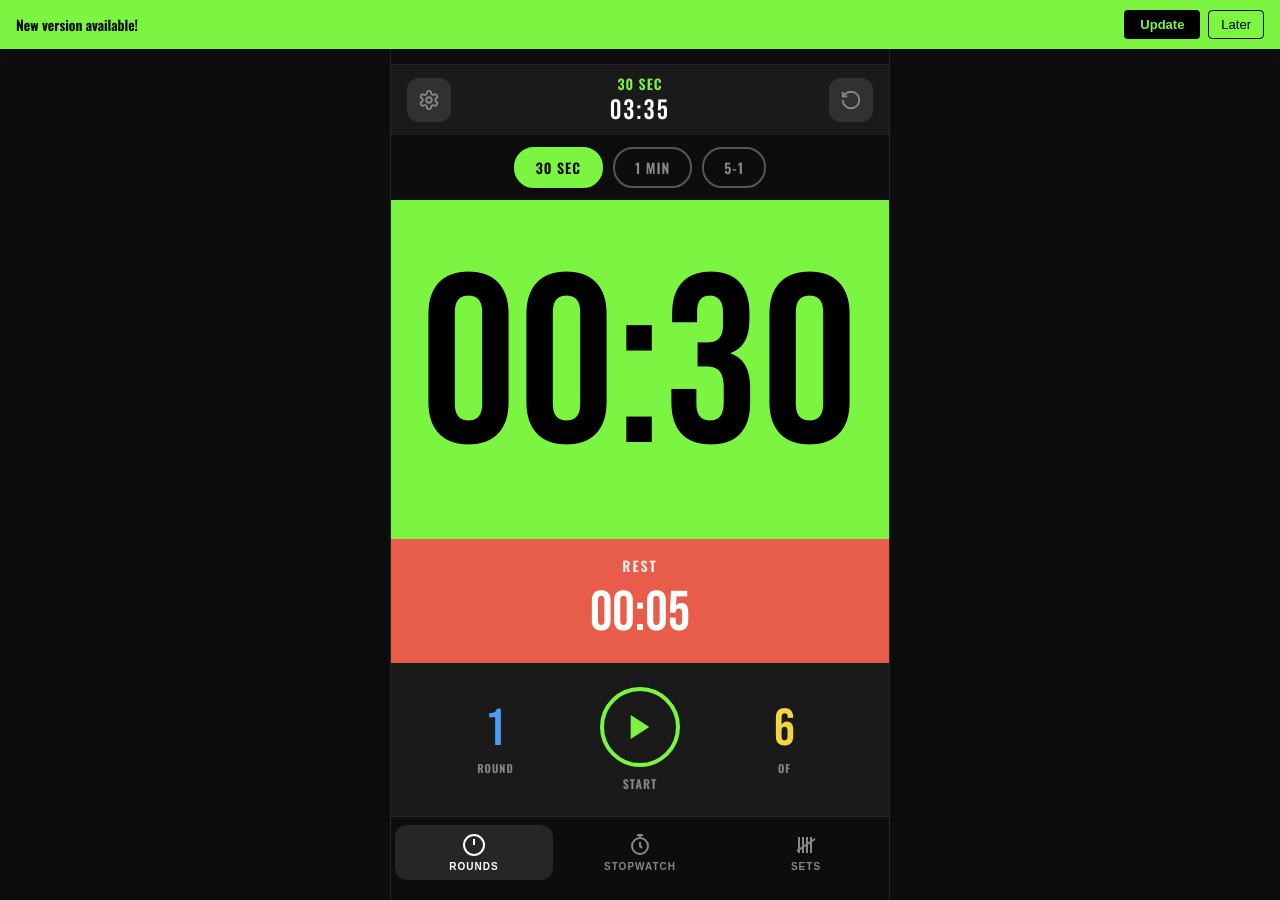
it: App › should change preset when clicked
The width and height of the screenshot is (1280, 900).
Step 1. Click the button "1 MIN" → x=653, y=168, box [613,147,692,188]
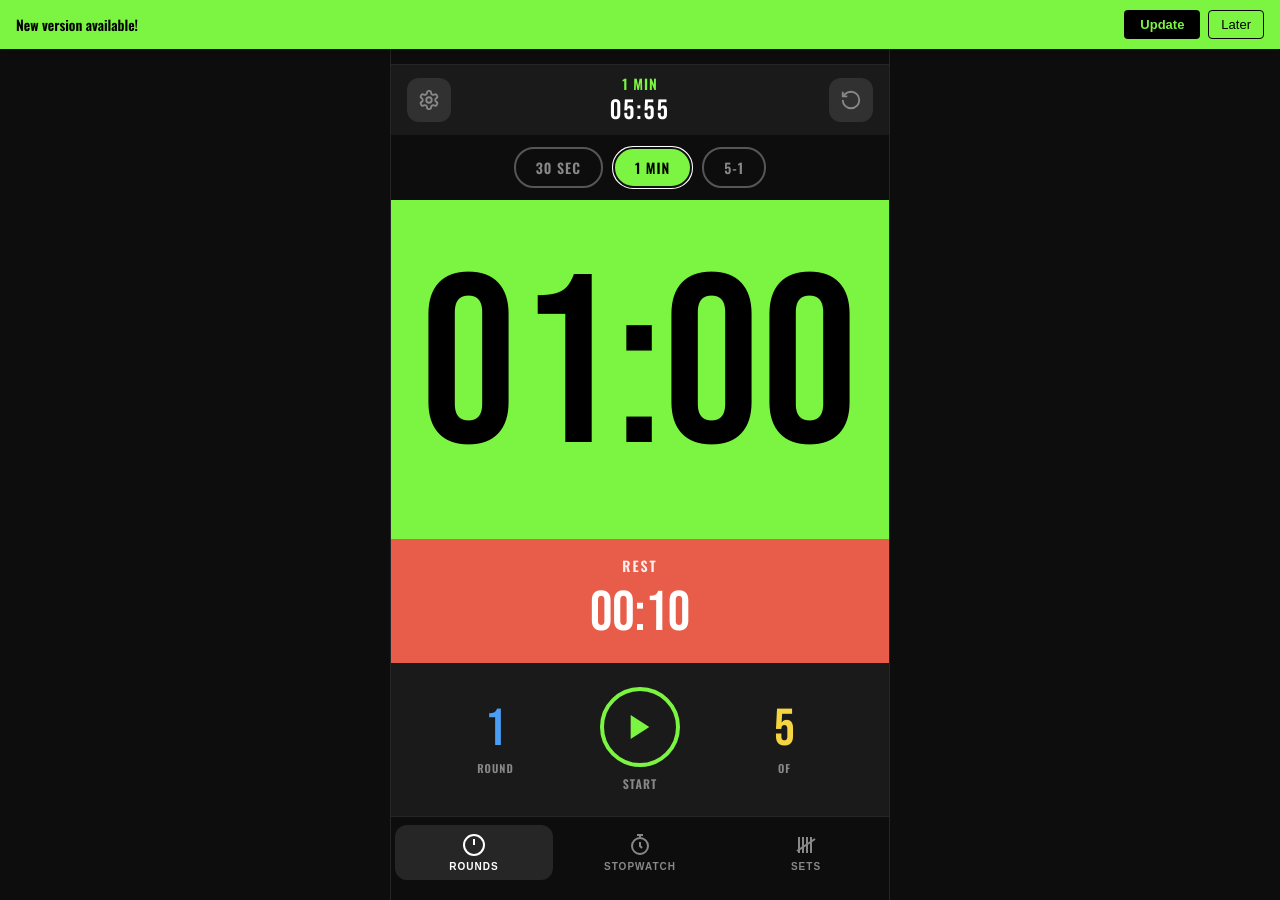
Expected: the text "01:00" is shown, [420,268,860,472]
